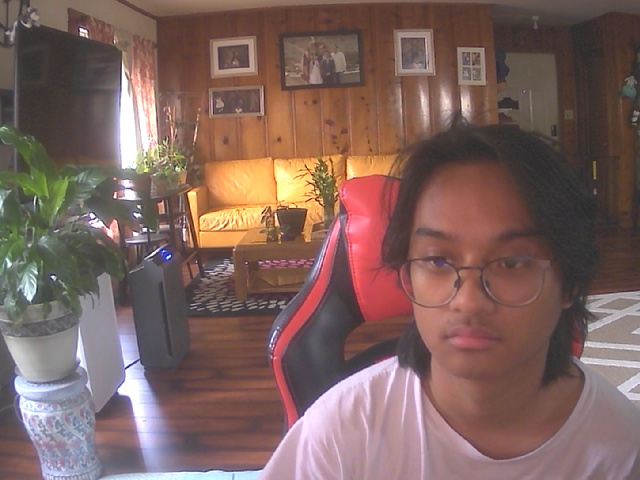neutral: (390, 133, 577, 384)
